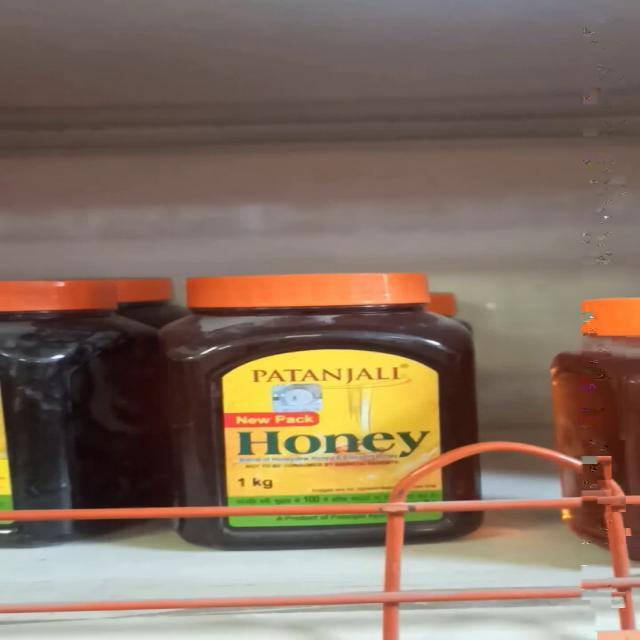Patanjali Honey: (175, 270, 486, 544)
